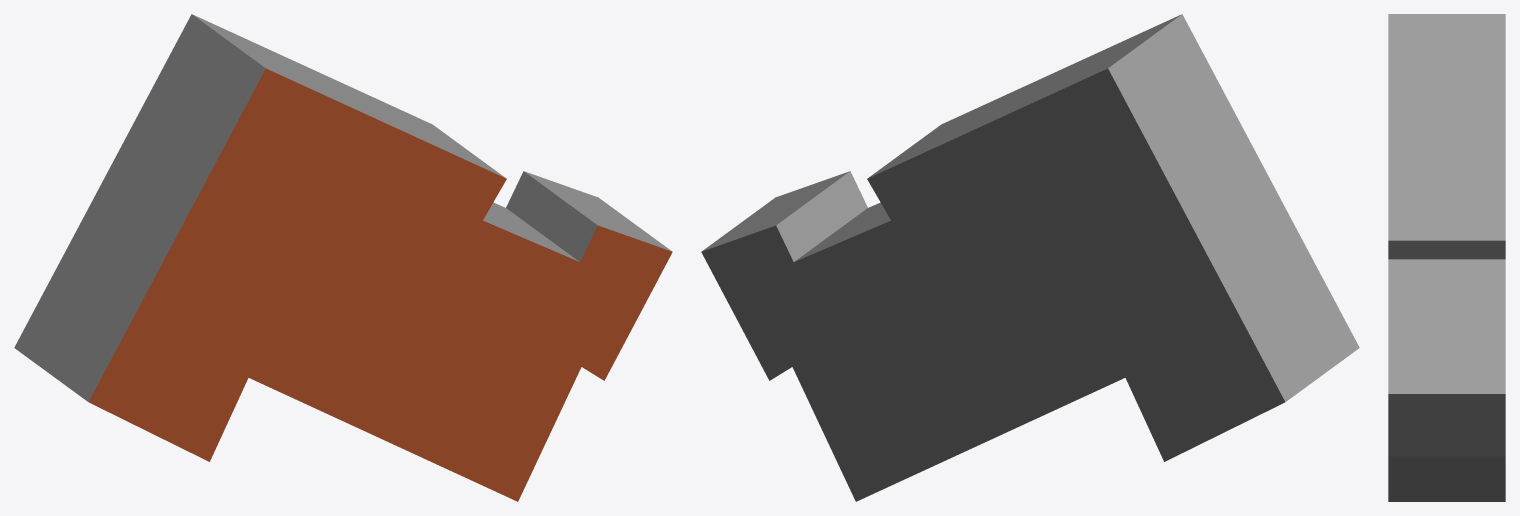
File: construction_6166_assumed_A_Casa_h6m.obj
The picture shows the model from 3 angles, left to right: view 1: azimuth 30°, elevation 25°; view 2: azimuth 150°, elevation 25°; view 3: azimuth 270°, elevation 25°; orthographic projection. The views are drawn at different scales.
Visible parts, largest first — view 1: construction_6166_assumed_A_Casa; view 2: construction_6166_assumed_A_Casa; view 3: construction_6166_assumed_A_Casa.
Part boxes in pixels (left/top/right/bottom): construction_6166_assumed_A_Casa: left=14, top=14, right=672, bottom=501; construction_6166_assumed_A_Casa: left=701, top=14, right=1359, bottom=501; construction_6166_assumed_A_Casa: left=1388, top=14, right=1505, bottom=501.
Bounding box in the file's own units: 27.24 × 22.06 × 6.
